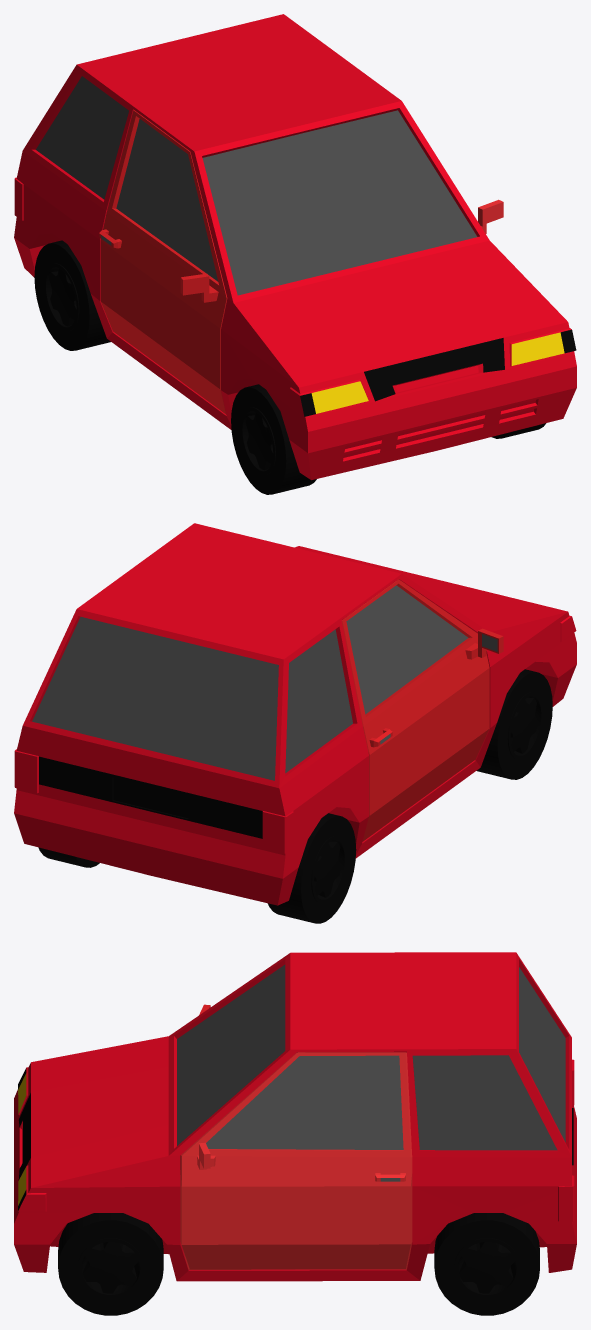
Rendered from car.gltf.
3 renders of one model, top to bottom at view 1: azimuth 30°, elevation 25°; view 2: azimuth 150°, elevation 25°; view 3: azimuth 270°, elevation 25°, orthographic. The views are drawn at different scales.
Parts seen in each view (by area): view 1: car body, windows, door r, win door r.001, wheel fr, wheel br; view 2: car body, windows, door r, win door r.001, wheel br, wheel fr; view 3: car body, door l, windows, win door l.001, wheel bl, wheel fl.
Part boxes in pixels (left/top/right/bottom): car body: left=14, top=14, right=576, bottom=480; windows: left=36, top=76, right=477, bottom=295; door r: left=99, top=110, right=227, bottom=414; win door r.001: left=116, top=119, right=218, bottom=281; wheel fr: left=231, top=384, right=316, bottom=494; wheel br: left=34, top=240, right=110, bottom=350; car body: left=14, top=523, right=576, bottom=905; windows: left=32, top=617, right=352, bottom=780; door r: left=341, top=579, right=503, bottom=841; win door r.001: left=346, top=585, right=468, bottom=714; wheel br: left=268, top=813, right=356, bottom=923; wheel fr: left=476, top=669, right=552, bottom=779; car body: left=14, top=952, right=576, bottom=1281; door l: left=180, top=1052, right=412, bottom=1269; windows: left=177, top=964, right=565, bottom=1150; win door l.001: left=206, top=1055, right=403, bottom=1149; wheel bl: left=434, top=1213, right=539, bottom=1315; wheel fl: left=58, top=1213, right=163, bottom=1315.
Size of the model in its own units: 2.18 by 1.71 by 3.46.
